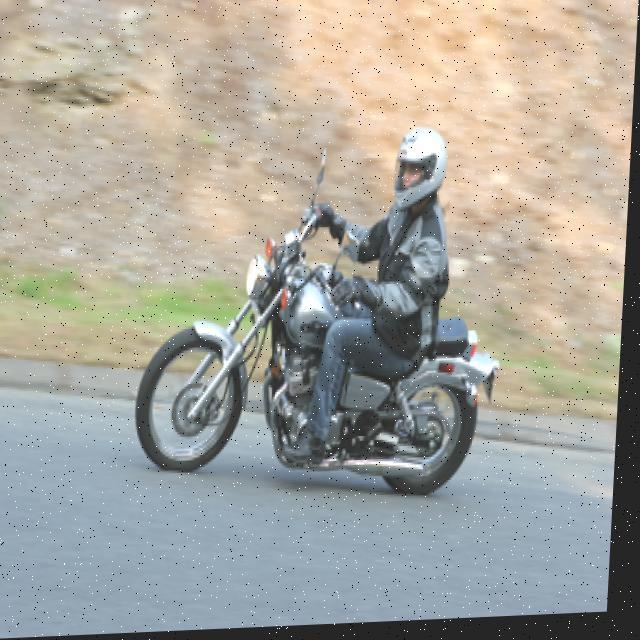Helmet: (394, 128, 456, 206)
